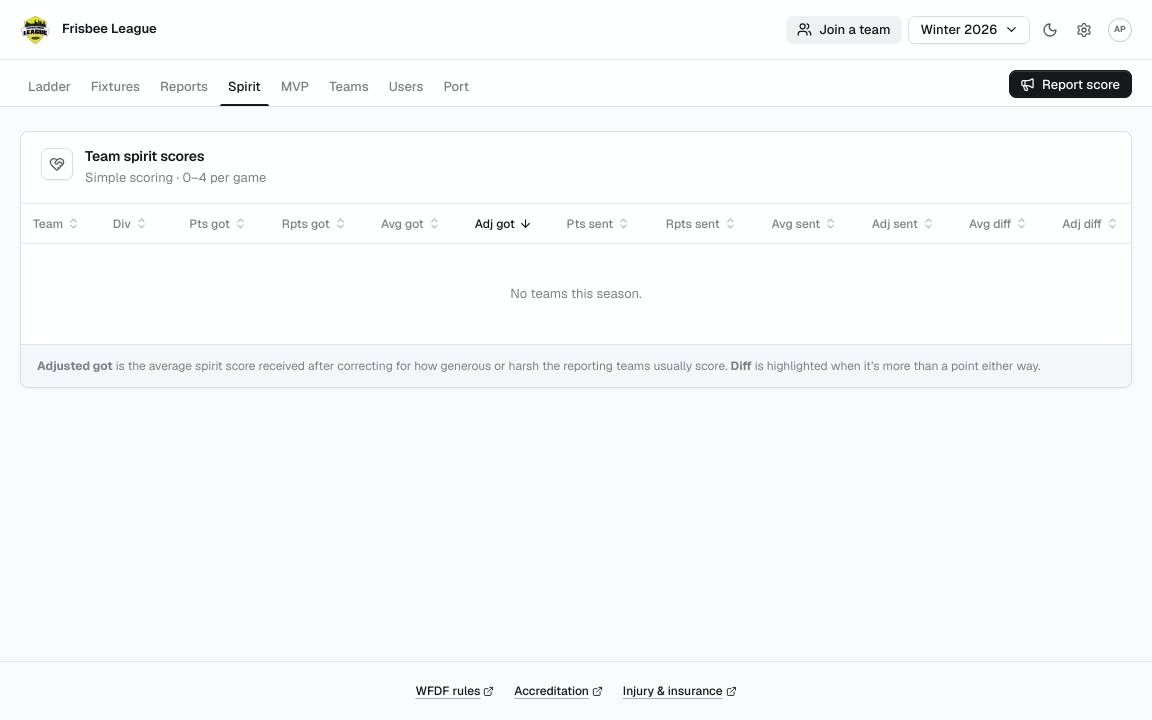
Test: Dashboard › gives admins every section, lazy pages and the season switcher
The width and height of the screenshot is (1152, 720).
Expected: the text "No teams this season." is shown, [510,285,642,302]
Click the button with aria-label "Season: Winter 2026". click: (969, 30)
box: [908,16,1030,44]
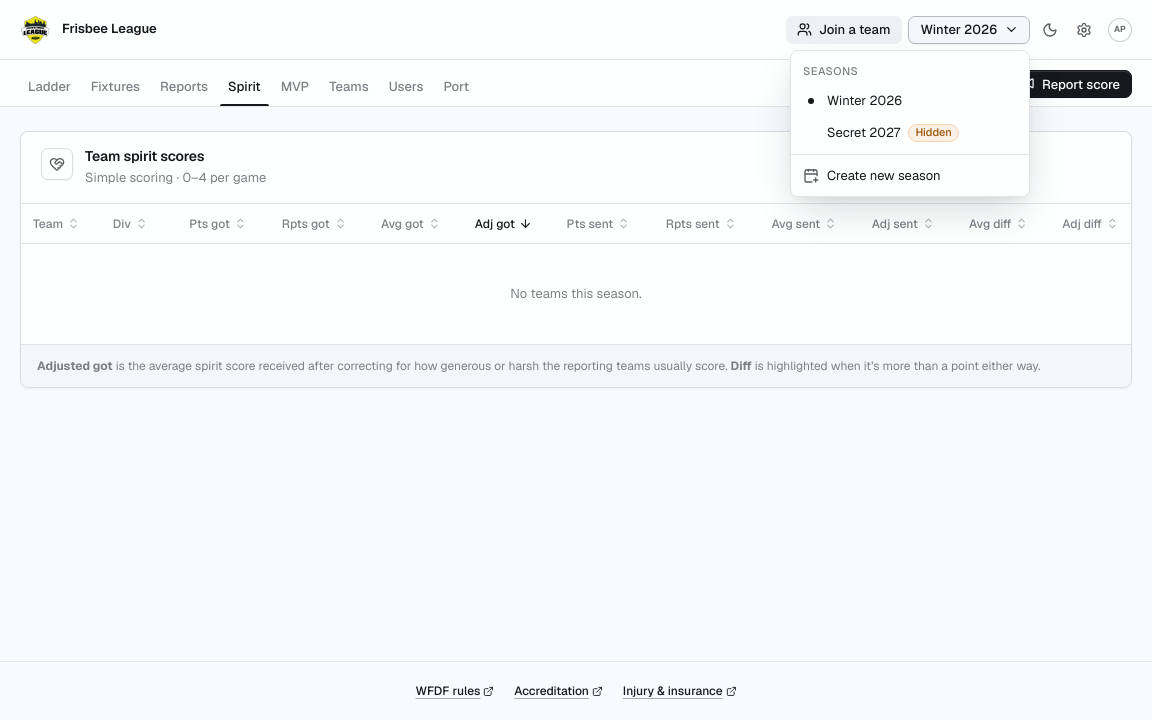
Result: the text "Hidden" is shown at [908,124,959,142]
Click the menu item "Secret 2027 Hidden". click: (893, 132)
box: [827,124,959,142]
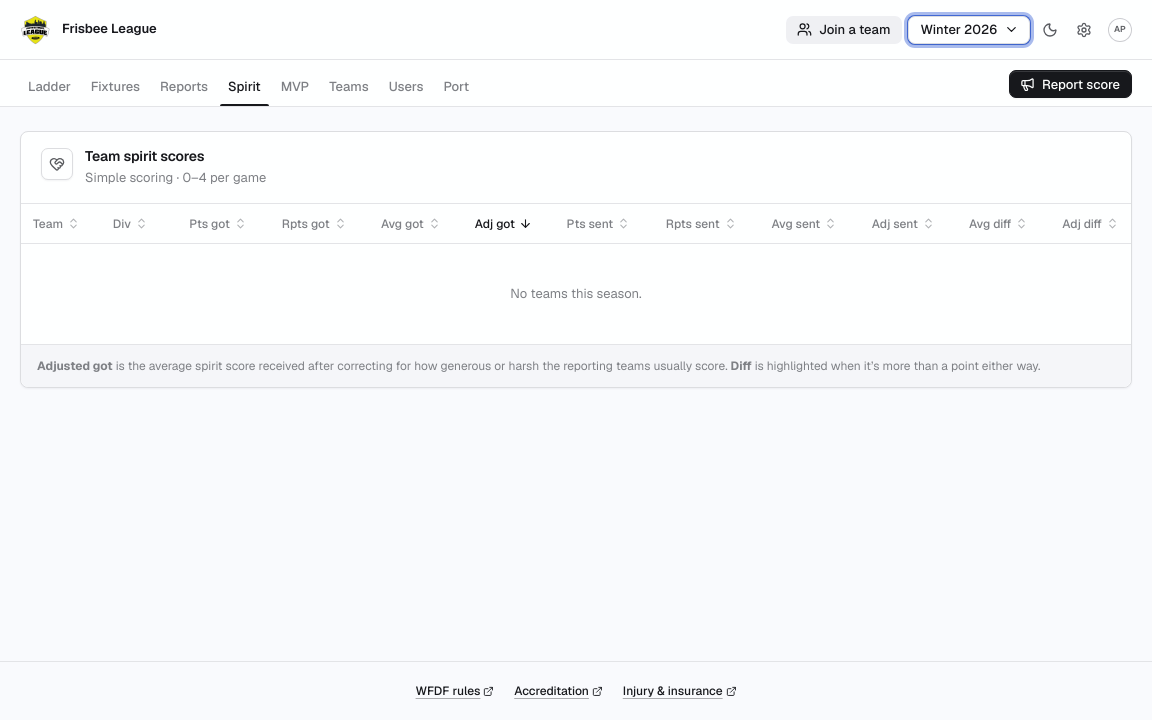
Click the button with aria-label "Season: Winter 2026". click: (969, 30)
box: [908,16,1030,44]
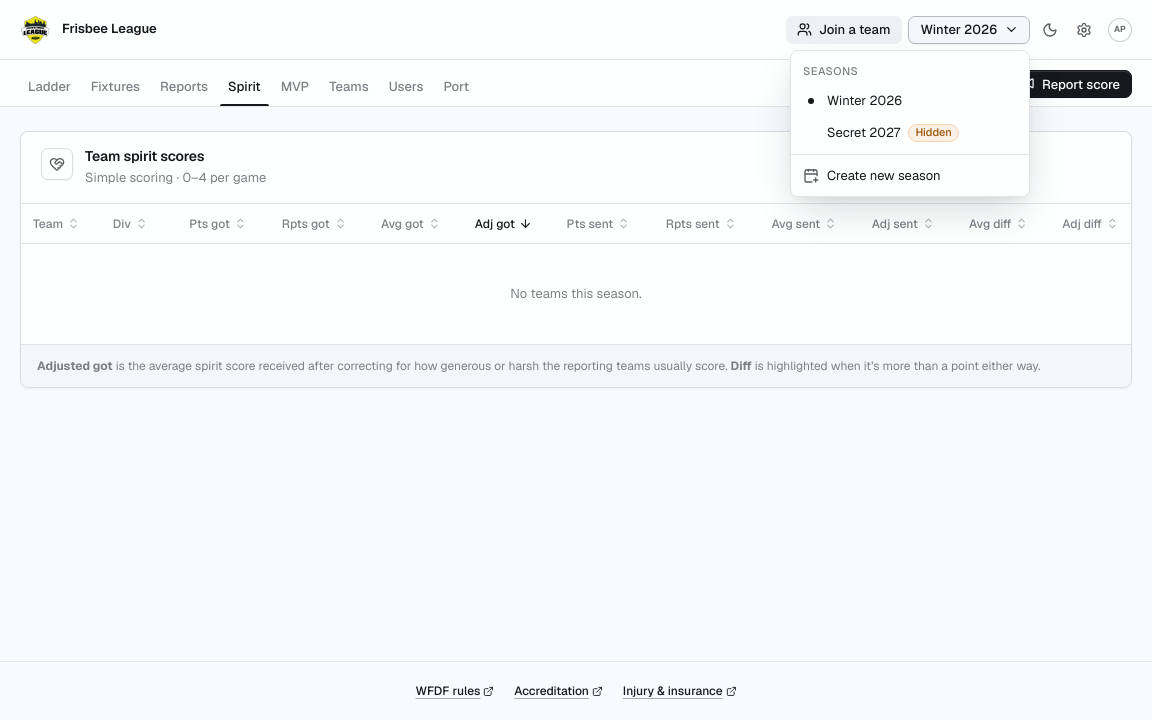
Click the menu item "Create new season". click: (872, 175)
box: [803,167,941,184]
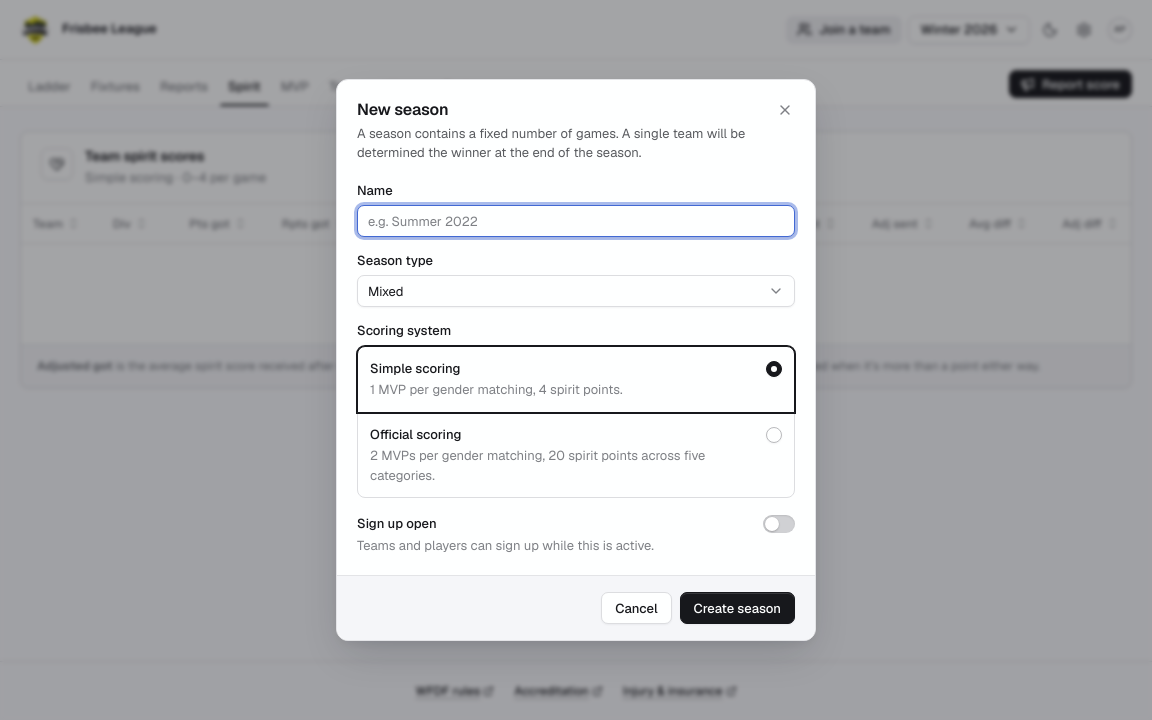
Result: the dialog "season" is shown at [336,79,816,641]
